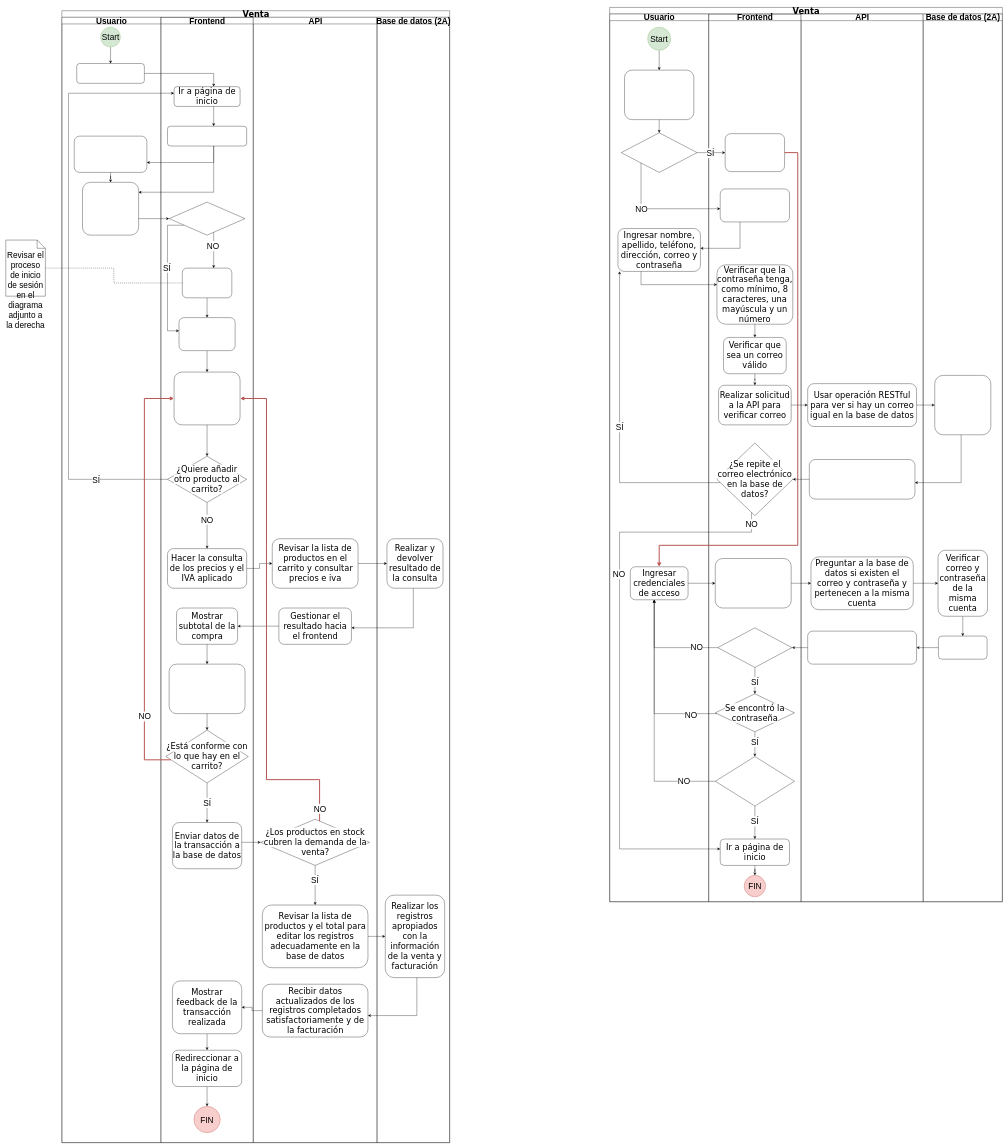
This 1008x1148 diagram has some shape labels left out. The shapes that lost their labels are listed below. From the top down, each one's box as (x1, y1, x2, y2) in pixels, then its label:
(76, 63, 144, 83): Ingresar a la página
(624, 70, 694, 120): Ingresar a la página de sign up/log in
(74, 136, 147, 172): Buscar producto en la página, usando filtros
(167, 126, 247, 146): Mostrar productos en venta
(621, 132, 697, 172): ¿Tiene cuenta registrada?
(725, 133, 785, 172): Ir a la página de iniciar sesión
(82, 182, 139, 235): Elegir cuales y cuantos productos agregar al carrito
(169, 202, 245, 235): ¿La sesión está iniciada?
(720, 189, 790, 222): Ir a la página de crear cuenta
(182, 268, 232, 298): Iniciar sesión
(179, 317, 235, 351): Ir a la página del carrito
(174, 372, 240, 425): Permitir eliminar productos del carrito y editar la cantidad
(934, 375, 991, 435): Verificar que el correo no se repita en la base de datos
(809, 459, 915, 499): Recibir respuesta de la base de datos y reenviar a frontend
(715, 558, 791, 608): Verificar si el correo y contraseña son los correctos con la API
(717, 627, 792, 667): Se encontró el correo
(807, 631, 917, 664): Recibir consulta y enviar respuesta al frontend
(938, 636, 987, 659): Enviar respuesta
(169, 664, 245, 714): Mostrar formulario de datos relevantes para la entrega del producto
(715, 756, 794, 806): ¿Son las credenciales asociadas correctas?
